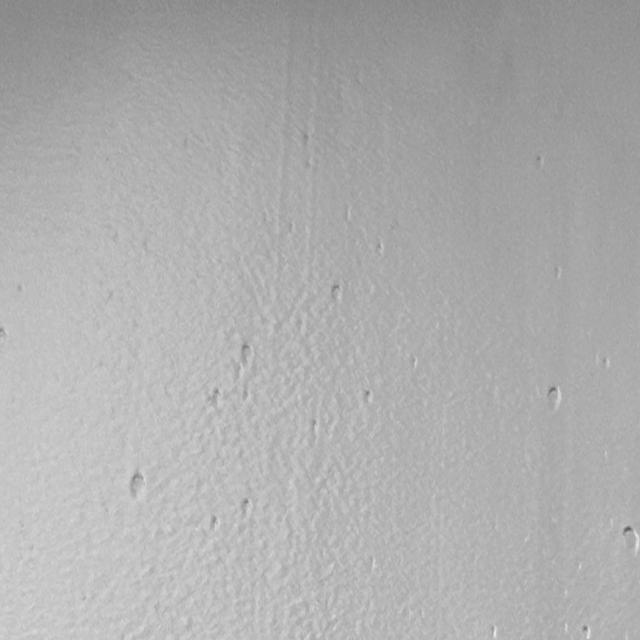pin holes: (128, 469, 152, 503), (618, 526, 639, 559), (542, 386, 564, 414), (238, 343, 257, 369), (207, 388, 226, 412), (238, 497, 253, 522), (330, 283, 346, 305), (361, 390, 378, 408), (533, 153, 548, 173), (550, 262, 564, 283), (485, 624, 501, 640), (209, 515, 223, 533), (410, 350, 422, 370), (599, 356, 612, 373), (374, 241, 385, 260), (580, 624, 592, 640), (0, 326, 9, 345)
